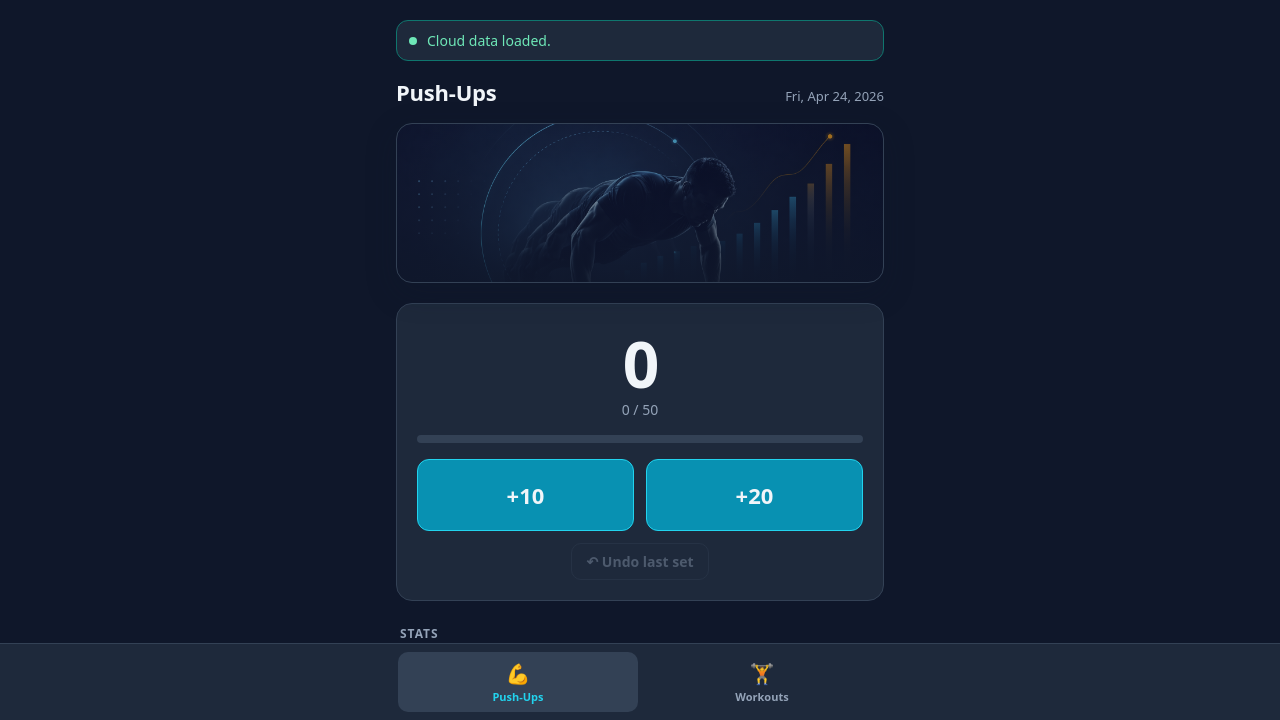
Test: App tab shell › shows a calm local-fallback message after a generic cloud failure
Click the button "+10" at (526, 495), box [417,459,634,531]
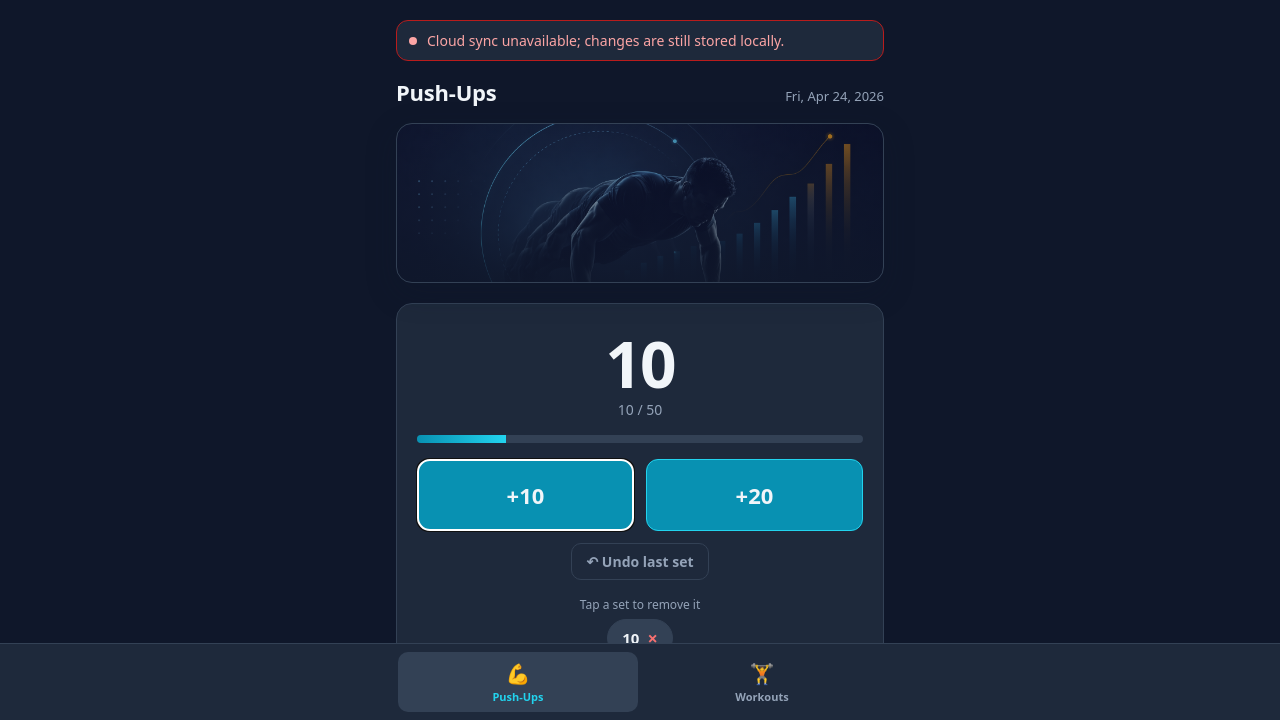
Now the message shows "changes are still stored locally", box [427,31,784,50]
